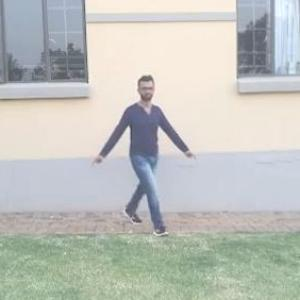land: (87, 71, 202, 245)
